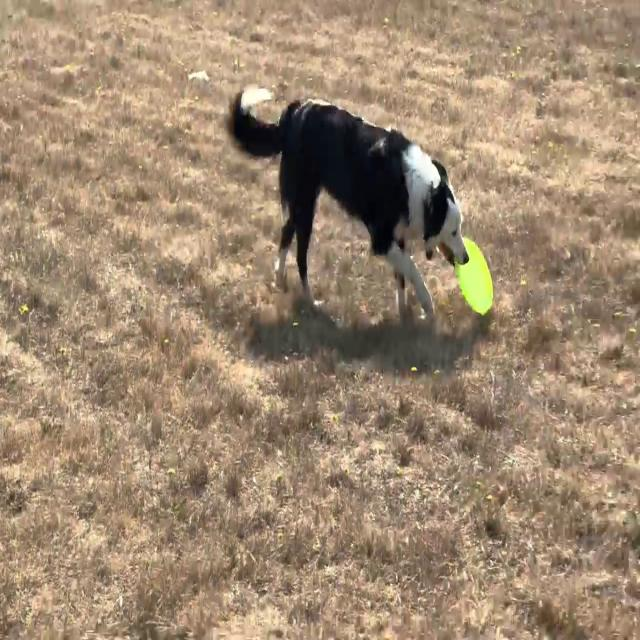Dog: (225, 87, 470, 319)
